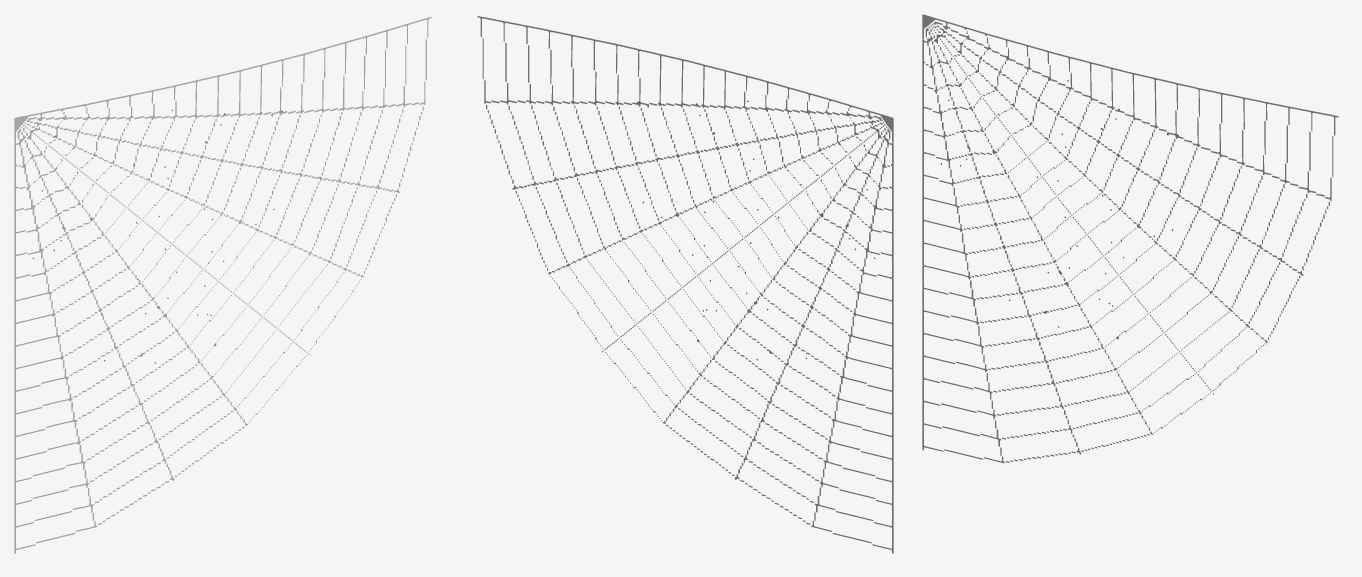
The model's file is cobwebcard.glb.
3 renders of one model, left to right at view 1: azimuth 30°, elevation 25°; view 2: azimuth 150°, elevation 25°; view 3: azimuth 330°, elevation 25°, orthographic.
Parts seen in each view (by area): view 1: cobwebcard; view 2: cobwebcard; view 3: cobwebcard.
Part boxes in pixels (bbox=[...]): cobwebcard: bbox=[14, 17, 431, 553]; cobwebcard: bbox=[477, 16, 893, 553]; cobwebcard: bbox=[922, 14, 1338, 463].
Size of the model in its own units: 0.39 by 0.39 by 0.012.
1 material, 1 textured.
